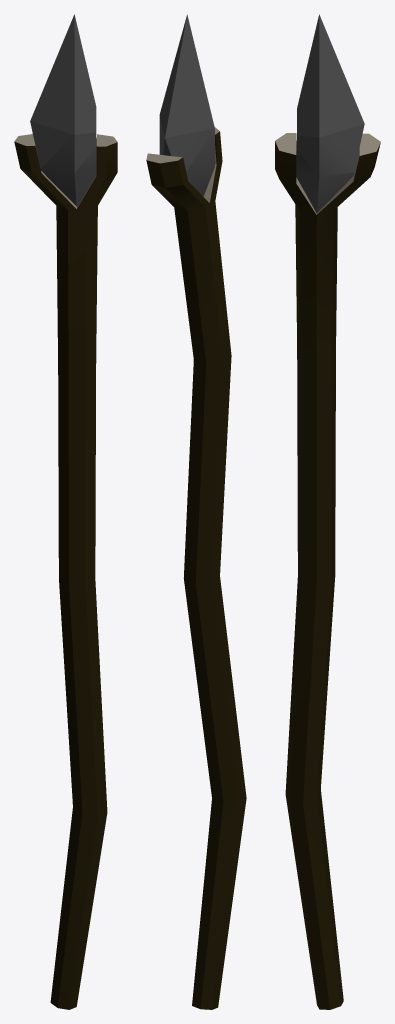
Rendered from Javelin.fbx.
3 views of the same model, side by side, from view 1: azimuth 90°, elevation 25°; view 2: azimuth 150°, elevation 25°; view 3: azimuth 270°, elevation 25° (orthographic). The views are drawn at different scales.
Parts seen in each view (by area): view 1: Javelin; view 2: Javelin; view 3: Javelin.
Boxes of the visible parts, x1=… form: Javelin: x1=14, y1=14, x2=117, y2=1009; Javelin: x1=146, y1=14, x2=246, y2=1009; Javelin: x1=275, y1=14, x2=380, y2=1009.
Bounding box in the file's own units: 11.9 × 149 × 14.21.
